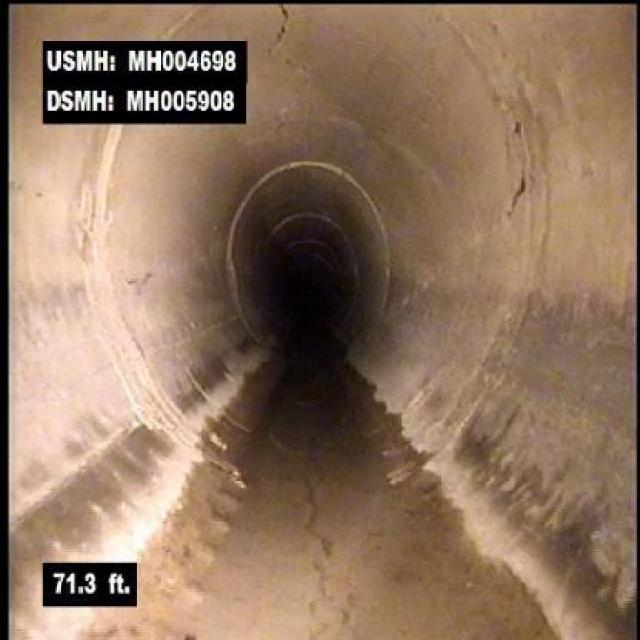Crack: (297, 500, 341, 638), (503, 166, 535, 220), (268, 8, 295, 52)
